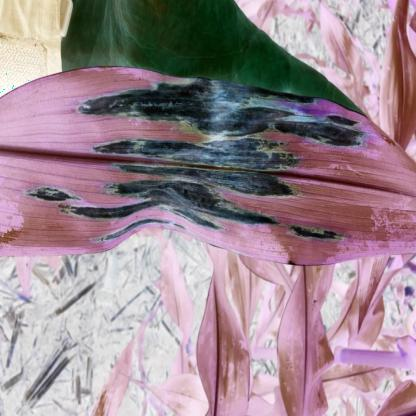corn leaf blight: (7, 60, 407, 275)
